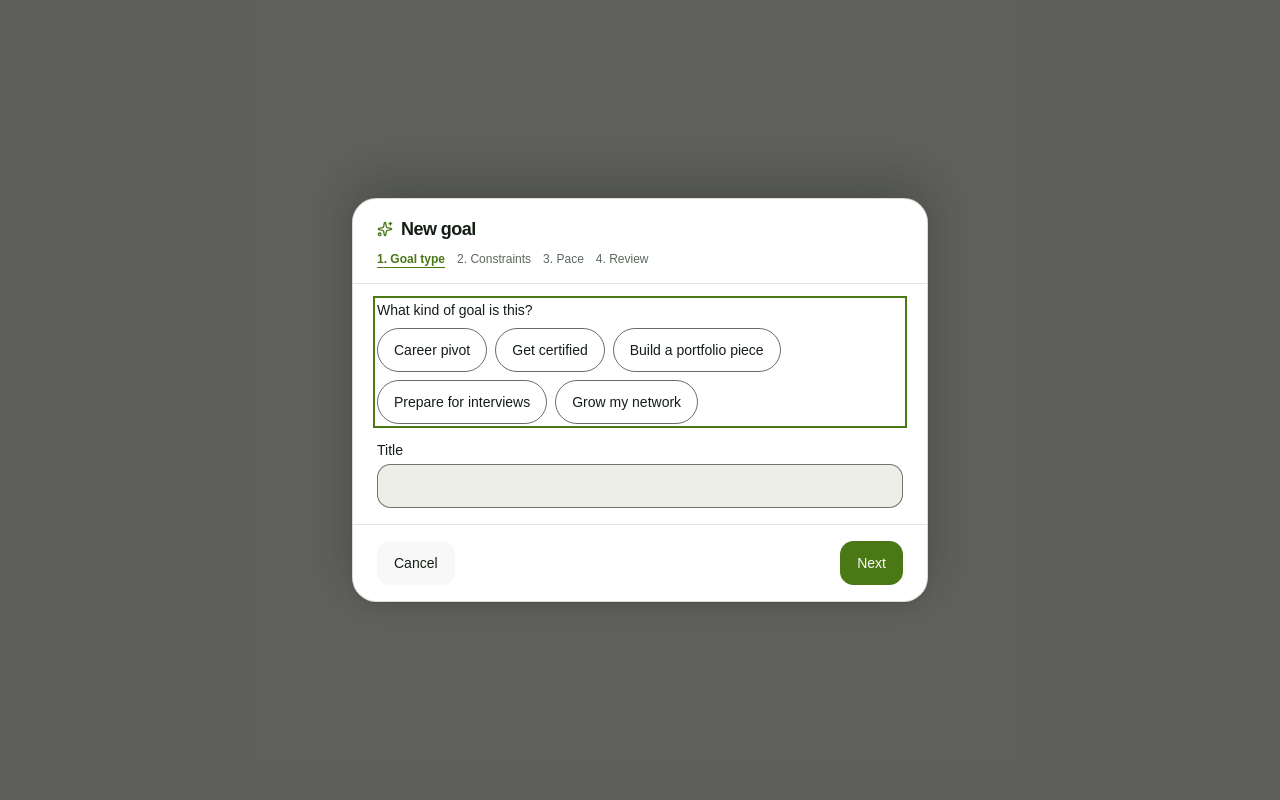
Test: the steps › choosing a goal type fills the title and turns Next on
The image size is (1280, 800).
Click the button "Get certified" at (550,350), box x1=495 y1=328 x2=605 y2=372
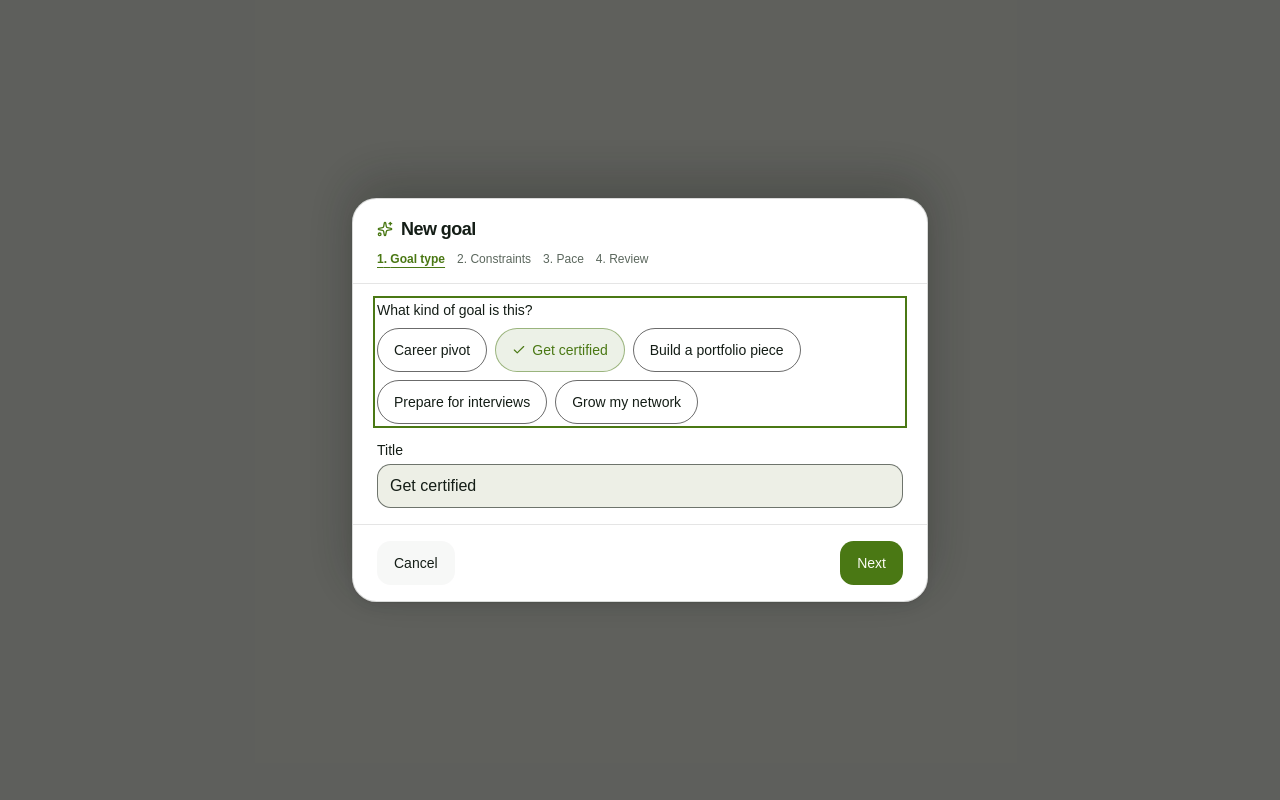
Expected: the button "Next" is enabled, x1=840 y1=541 x2=903 y2=585
Expected: the field labelled "Title" holds "Get certified", x1=377 y1=464 x2=903 y2=508
